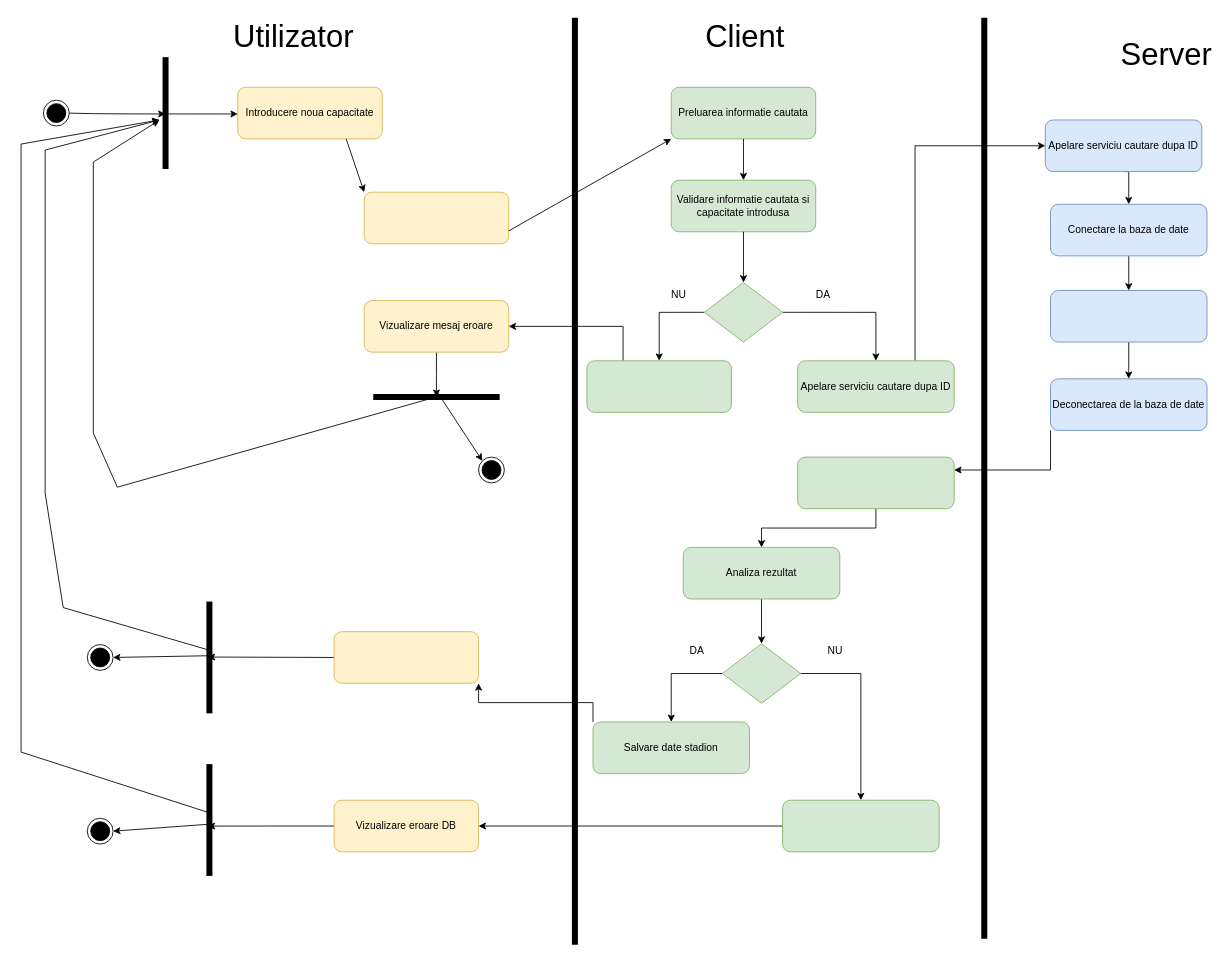
Image size: 1227x963. Some labels were removed from this diagram. Each missing label, with the centre of its shape:
"Afisare mesaj eroare" belongs at point (658, 386).
"Afisare mesaj eroare DB" belongs at point (860, 825).
"Executarea interogarii si actualizarea capacitatii stadionului" belongs at point (1128, 316).
"Generare cautare stadion" belongs at point (436, 217).
"Preluare rezultat interogare" belongs at point (875, 482).
"Vizualizare date stadion" belongs at point (406, 657).
